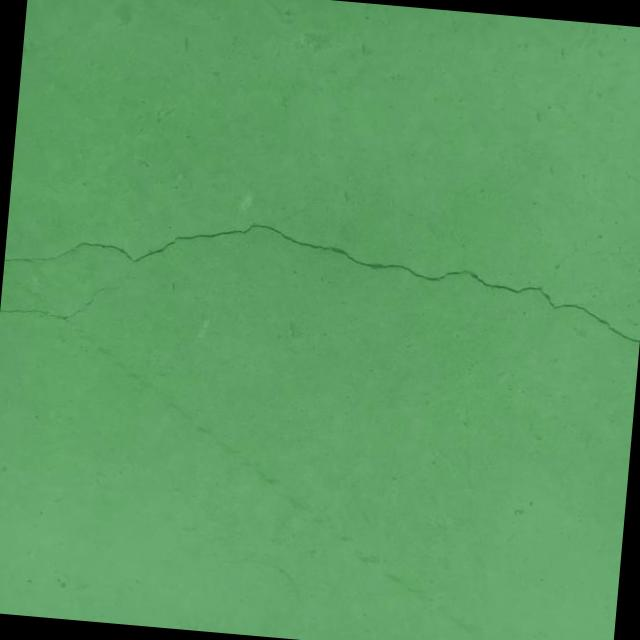crack: (1, 183, 640, 342), (0, 272, 124, 327), (630, 270, 640, 279)
